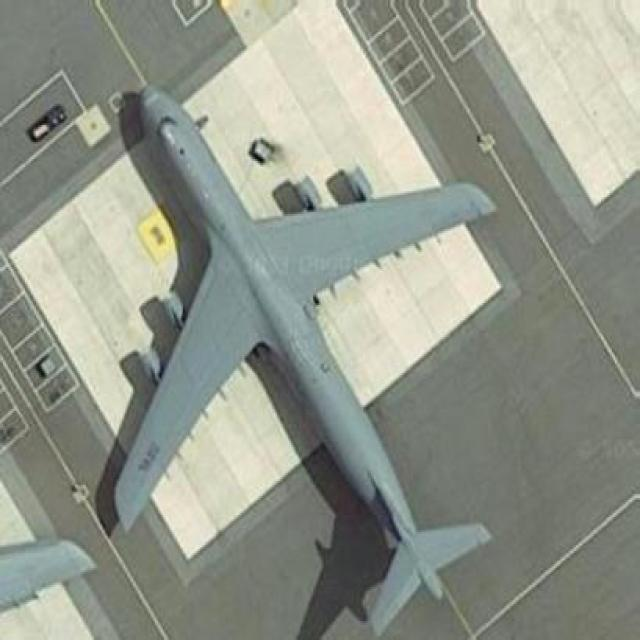C-5_TopDown: (97, 80, 502, 638)
